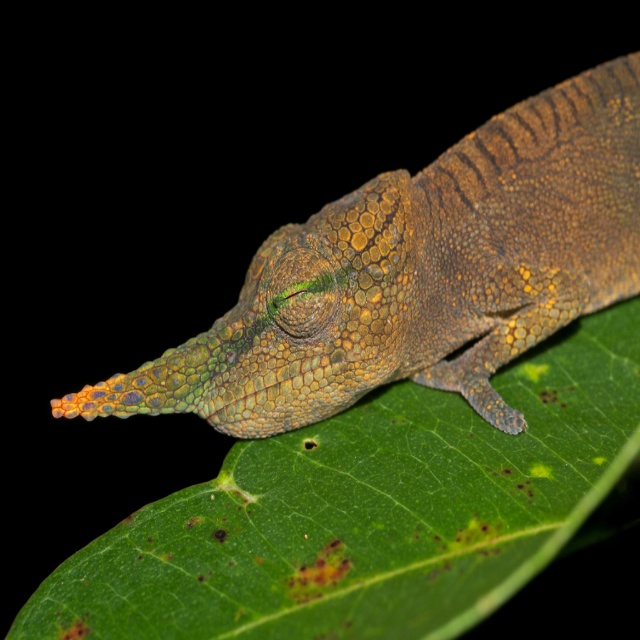Lizard: (36, 31, 628, 506)
